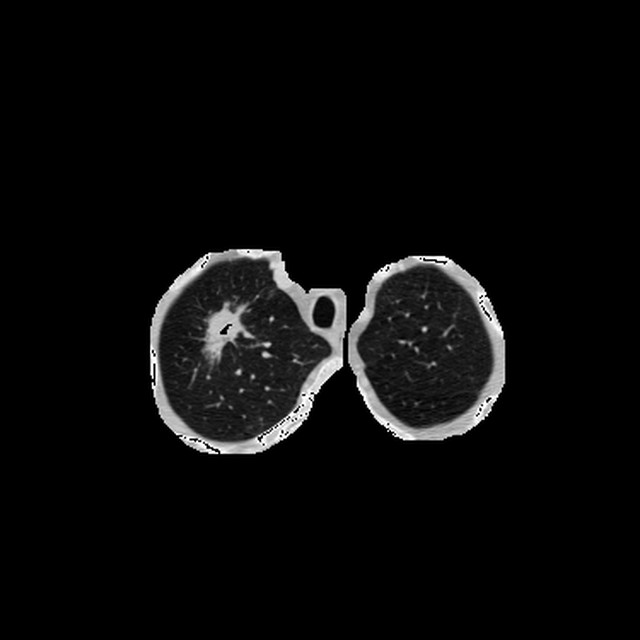PN: (203, 312, 244, 353)
